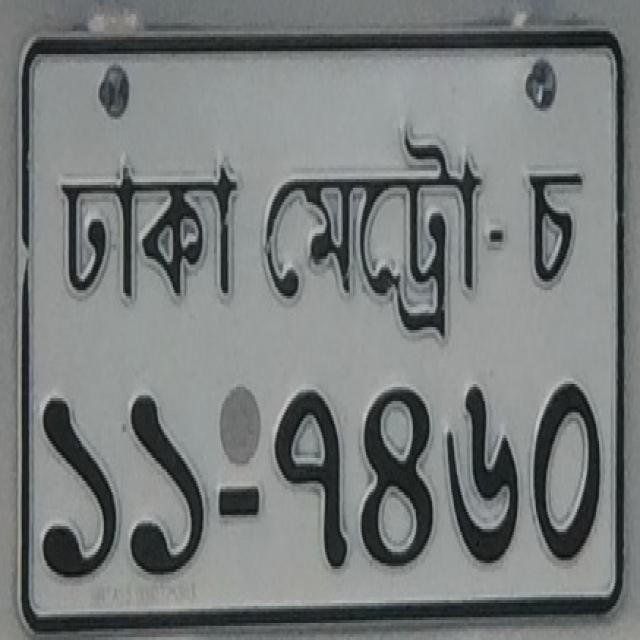cng: (261, 119, 484, 341)
numberplate: (14, 25, 626, 629)
